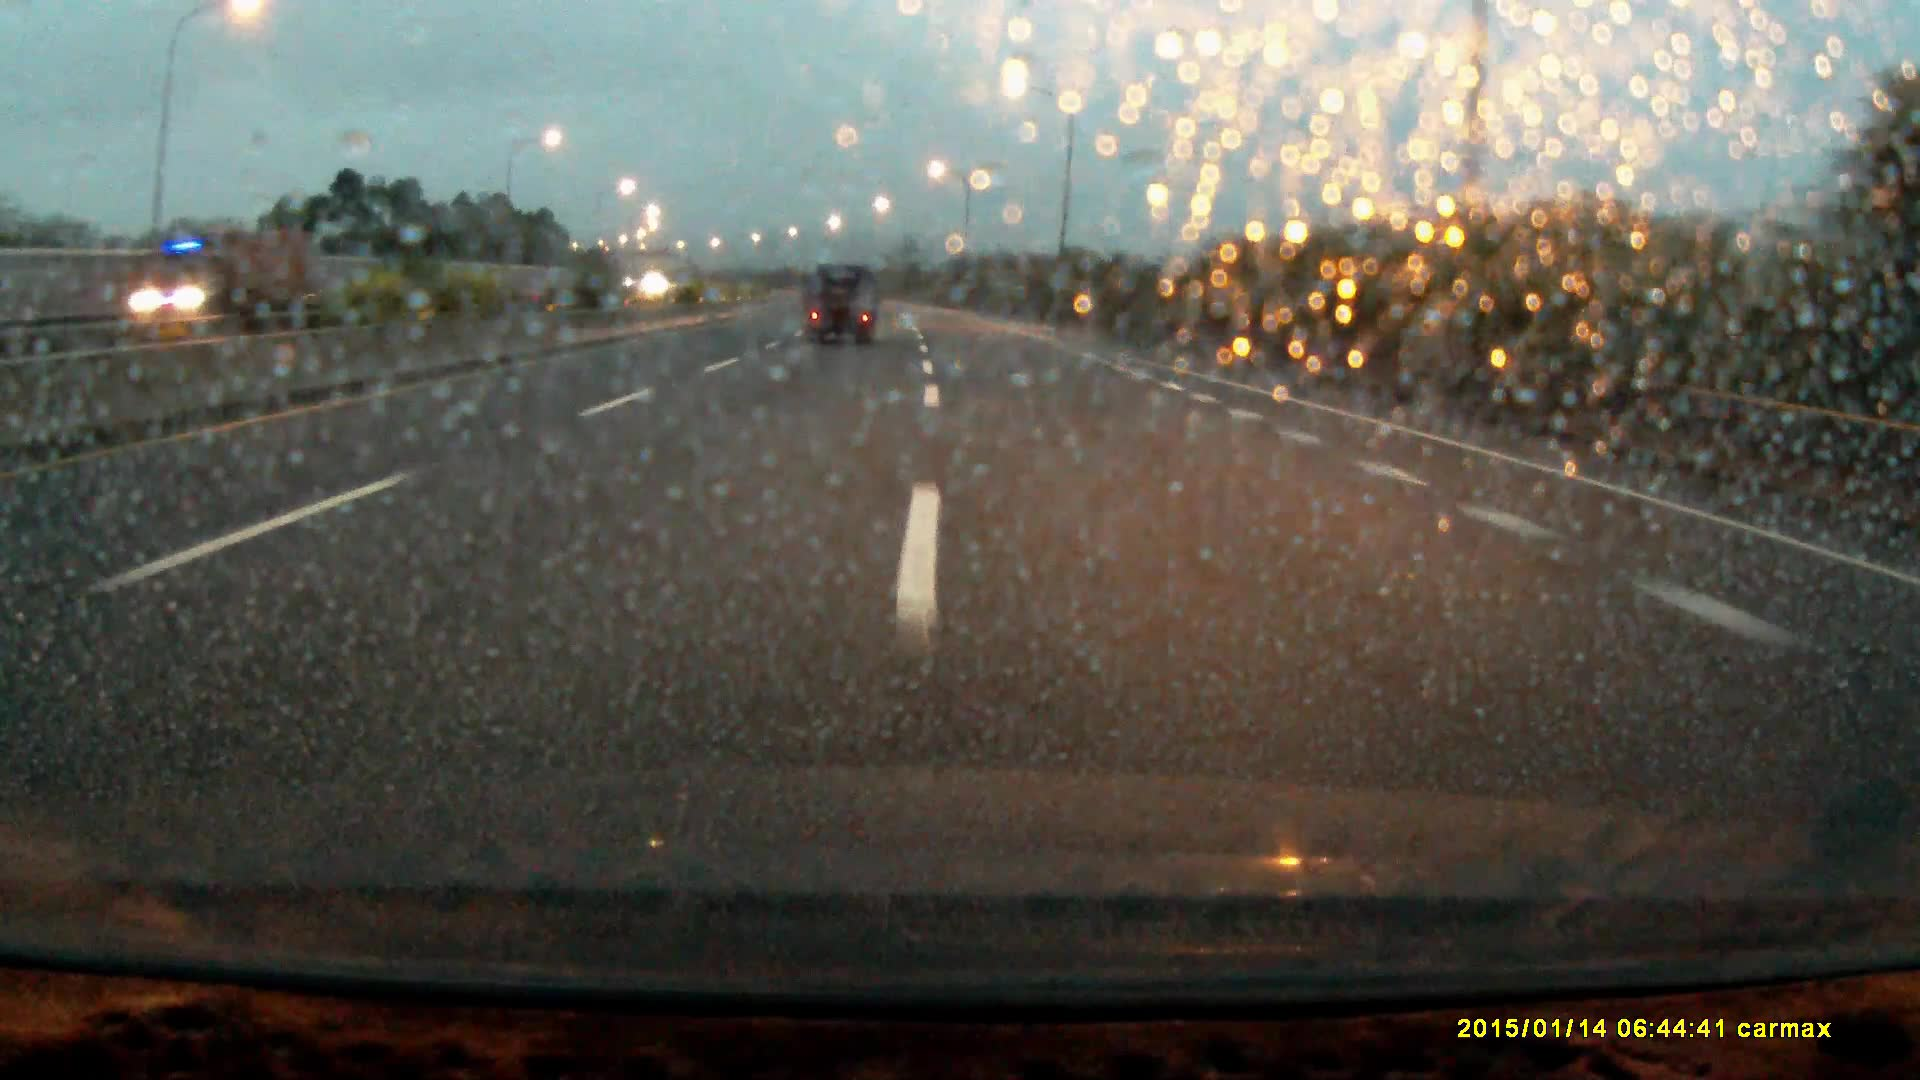vehicle: (95, 231, 301, 324), (802, 268, 880, 352)
